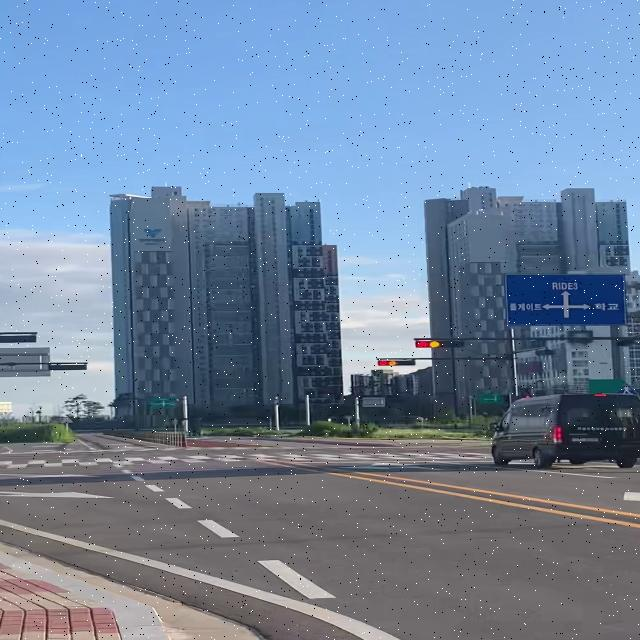yellow_light: (415, 341, 465, 348), (377, 360, 416, 366)
